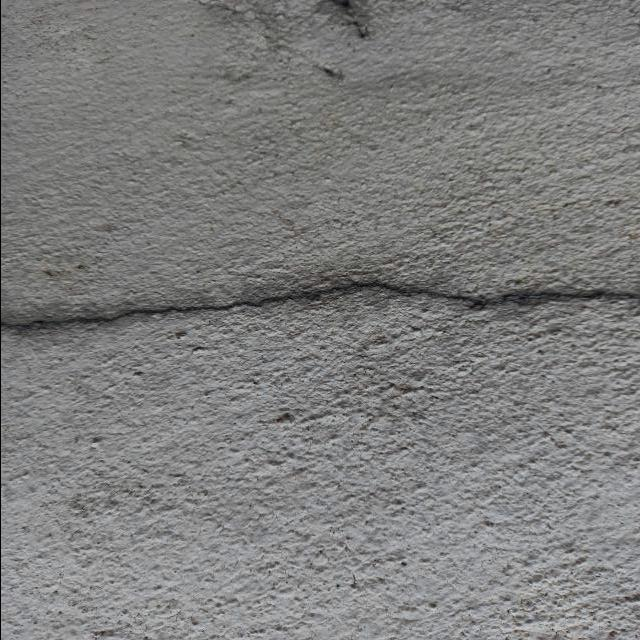SurfaceCrack: (1, 217, 640, 385)
